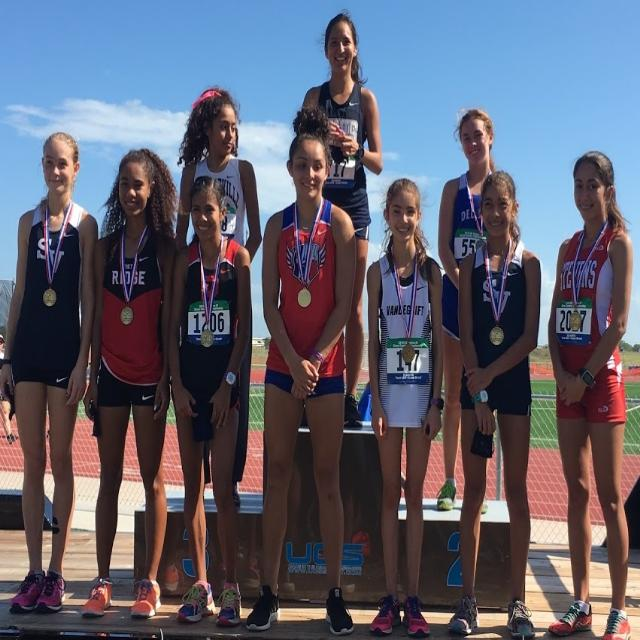body: (241, 94, 361, 639), (1, 123, 103, 621), (438, 169, 546, 639), (78, 145, 184, 621), (543, 144, 636, 639), (167, 79, 264, 515), (163, 171, 251, 632), (360, 174, 443, 639), (296, 9, 385, 428), (435, 105, 497, 516), (0, 322, 22, 450)
